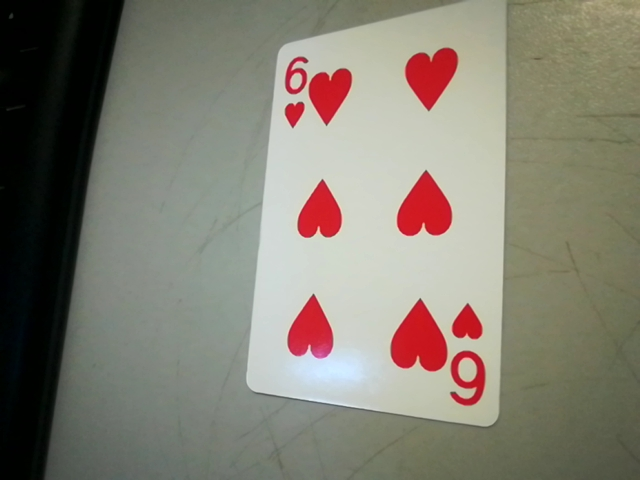hx 6: (448, 300, 497, 415)
